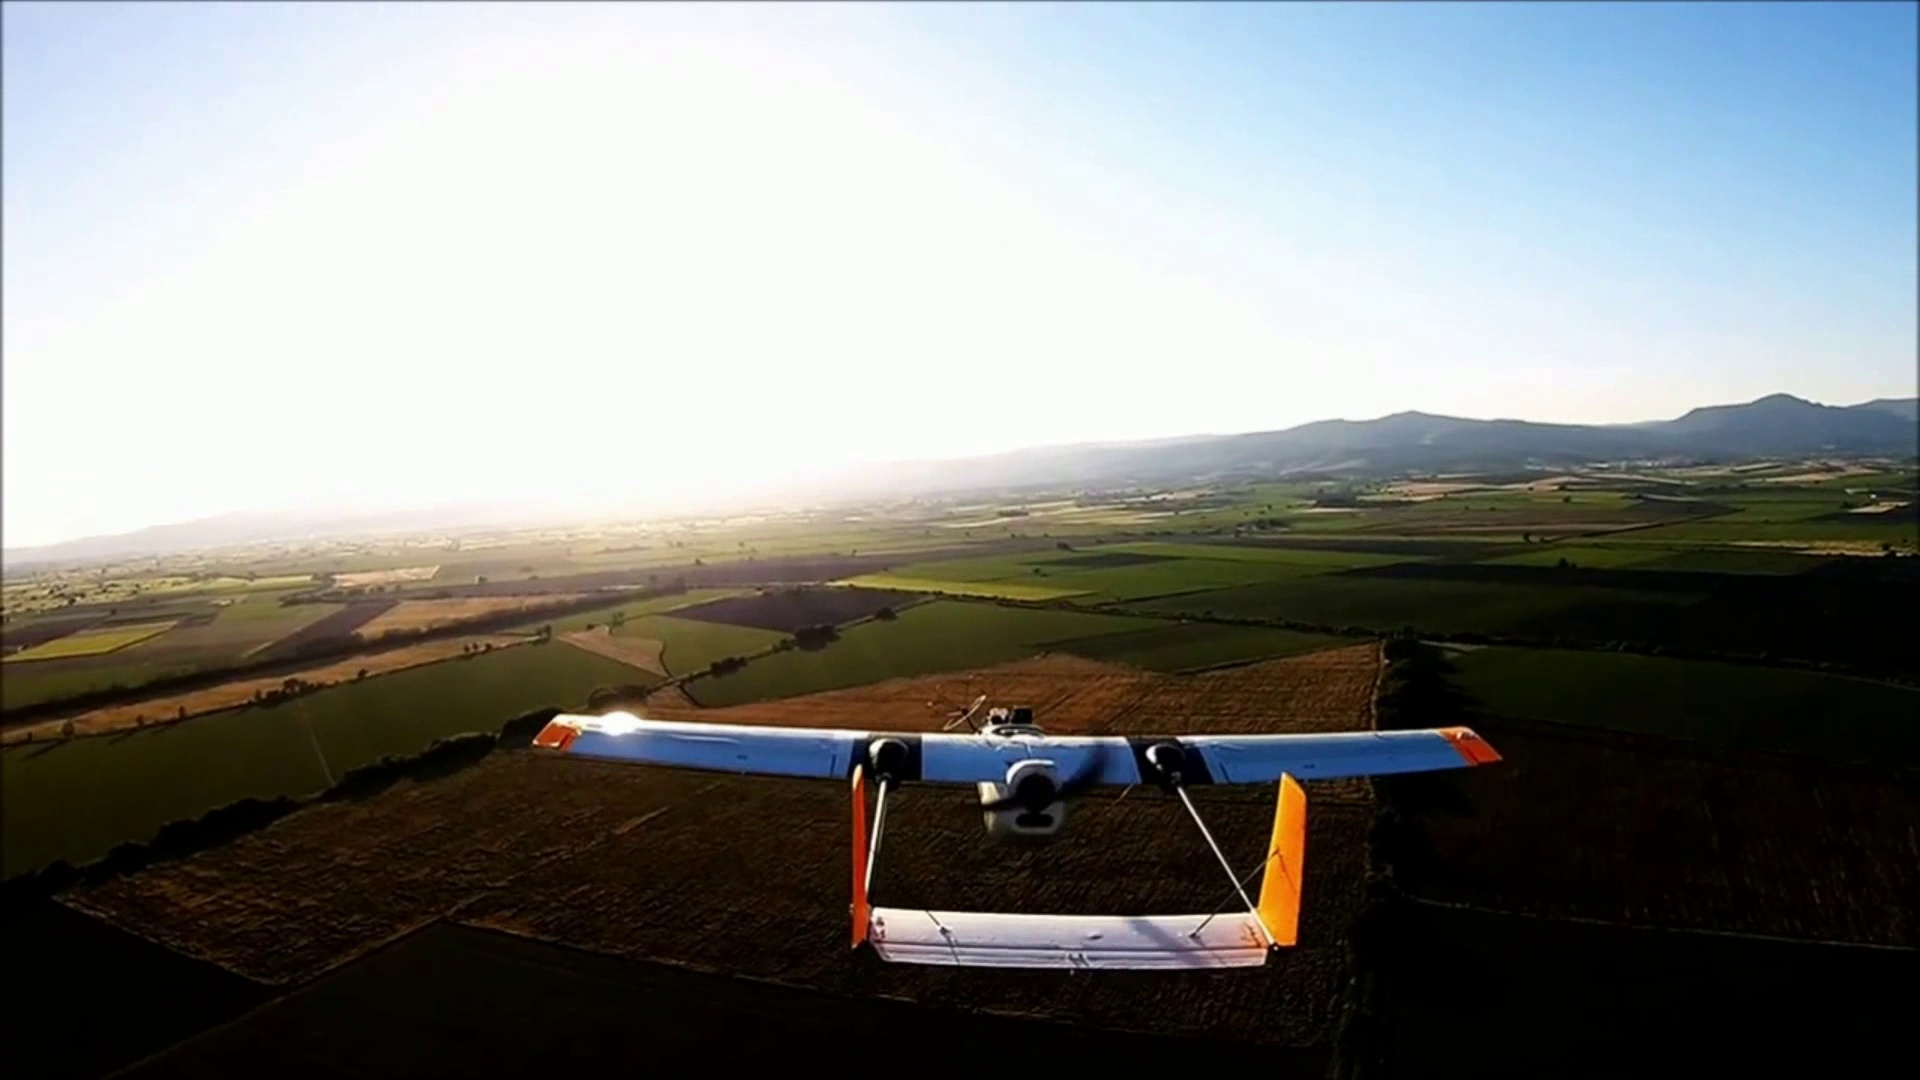airplane: (531, 716, 1505, 975)
